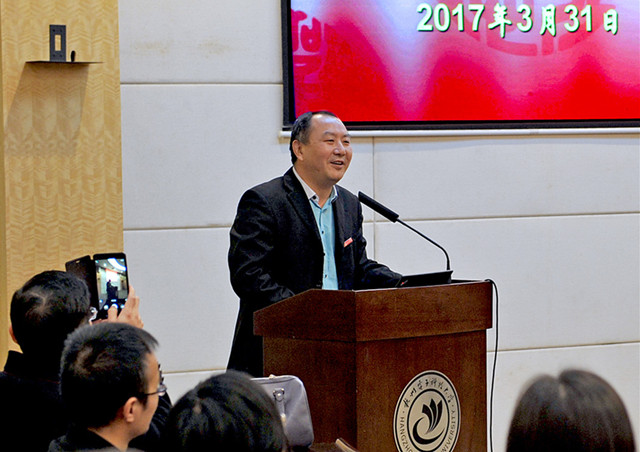noWear: (116, 353, 164, 438), (307, 127, 355, 189)
